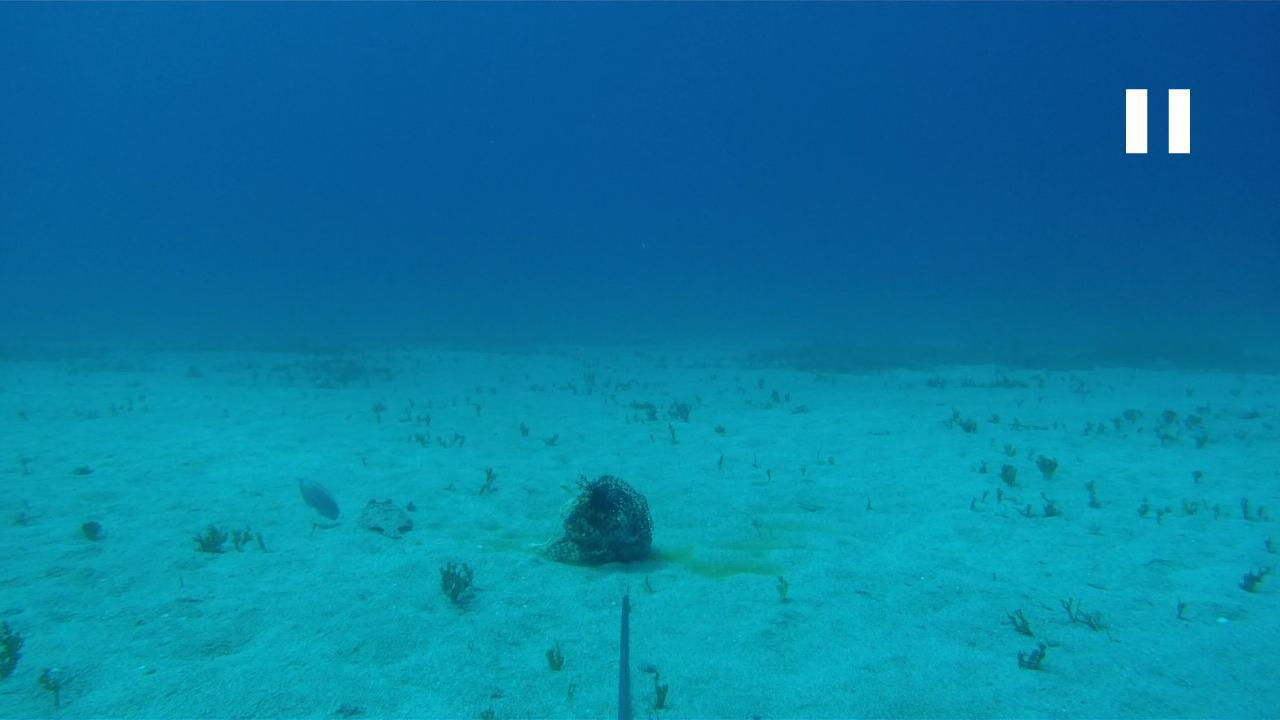bothus: (355, 498, 413, 540)
